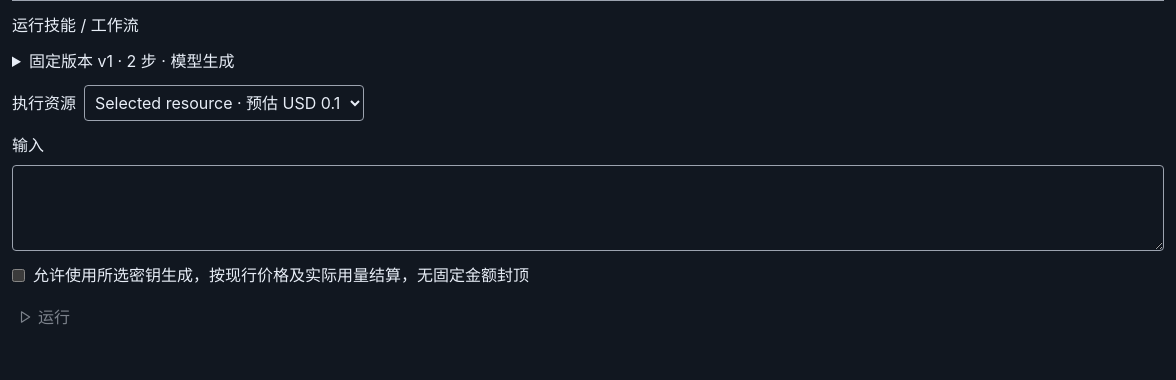
Scenario: AssetExecutionPanel › keeps a partially completed workflow pending on expired model authorization
This screenshot has width=1176, height=380.
Type "input" into the text box labelled "输入" at (588, 208), box top-left (12, 165), bottom-right (1164, 251)
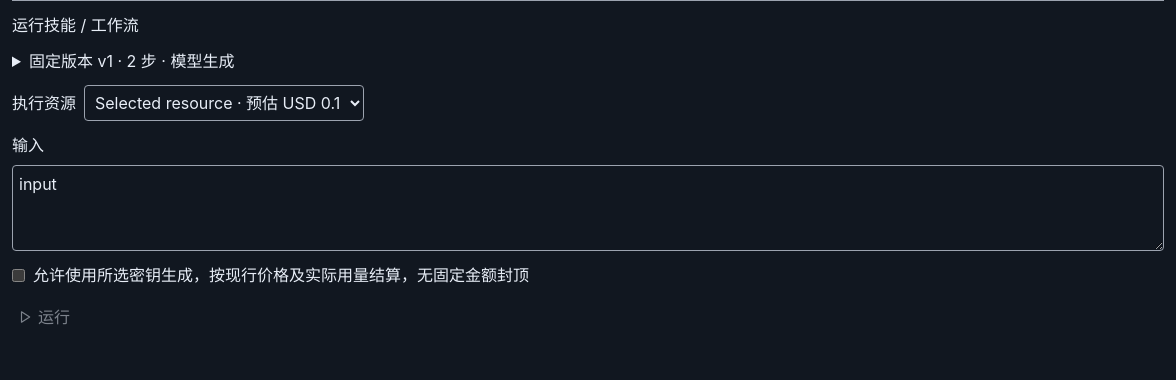
Click the checkbox labelled "允许使用所选密钥生成，按现行价格及实际用量结算，无固定金额封顶" at (18, 275), box top-left (12, 268), bottom-right (25, 282)
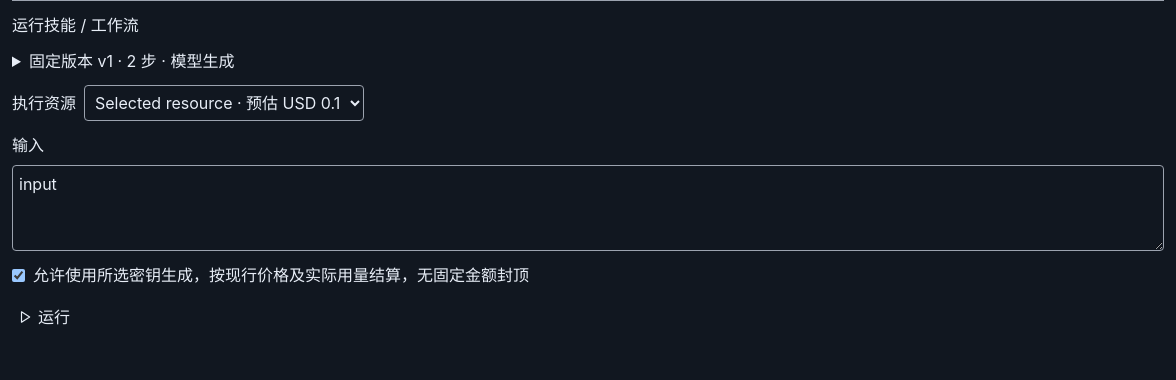
Click the button "运行" at (54, 317), box top-left (12, 299), bottom-right (1164, 335)
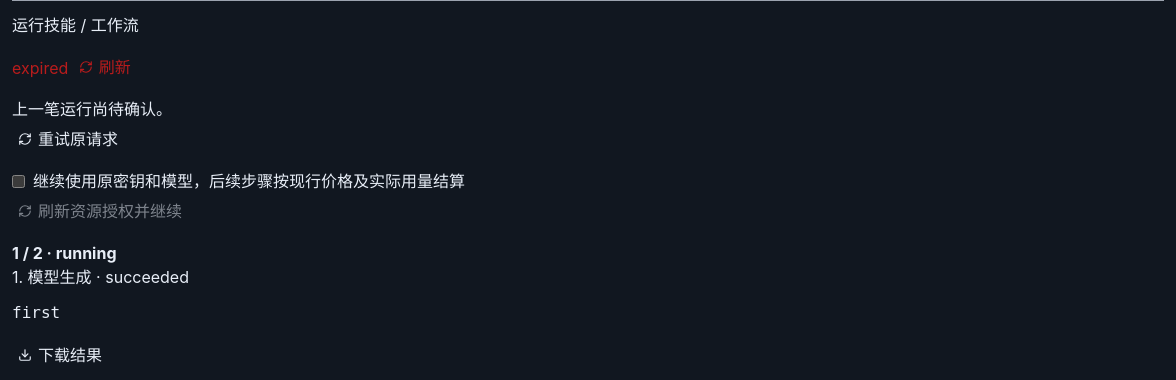
Expected: the text "重试原请求" is shown, top-left (12, 121), bottom-right (124, 157)
Expected: the text "刷新资源授权并继续" is shown, top-left (12, 193), bottom-right (188, 229)
Expected: the text "first" is shown, top-left (12, 303), bottom-right (60, 322)
